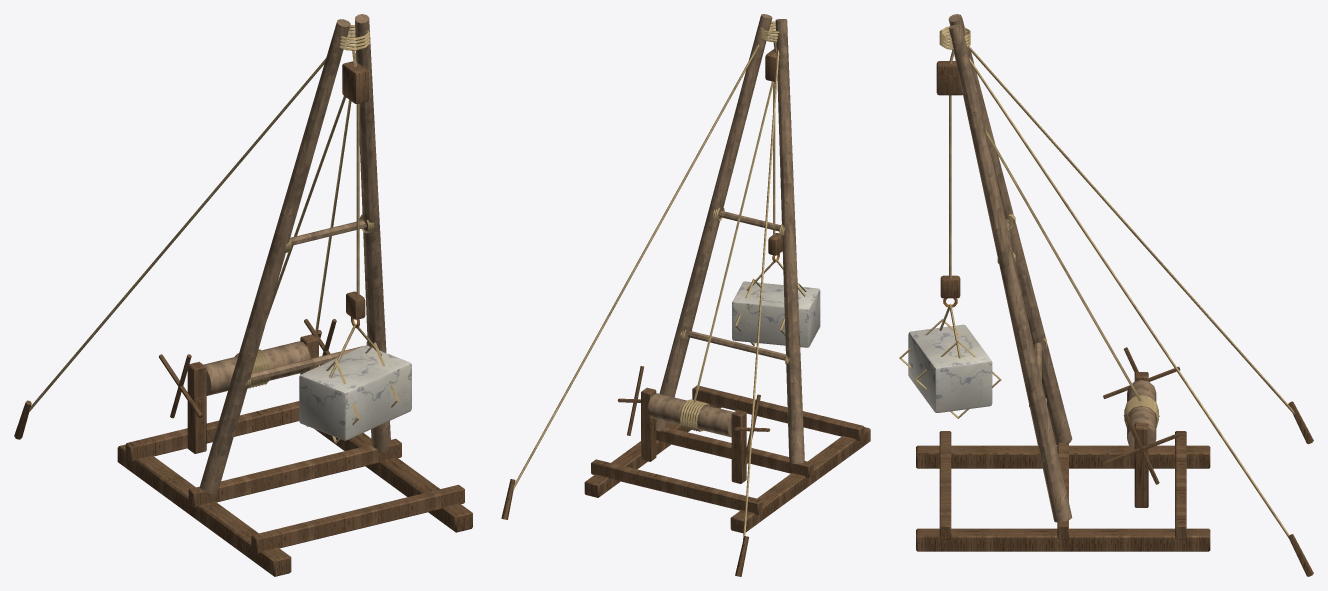
File: build_crane_t1.glb
The picture shows the model from 3 angles, left to right: view 1: azimuth 30°, elevation 25°; view 2: azimuth 150°, elevation 25°; view 3: azimuth 270°, elevation 25°; orthographic projection. The views are drawn at different scales.
Parts seen in each view (by area): view 1: wood_dark, wood, marble, rope; view 2: wood_dark, wood, rope, marble; view 3: wood_dark, wood, rope, marble.
Part boxes in pixels (box(x1,y1,x2,y2)): wood_dark: box(14, 61, 472, 576); wood: box(199, 14, 390, 493); marble: box(299, 345, 411, 440); rope: box(29, 25, 398, 443); wood_dark: box(501, 49, 870, 576); wood: box(647, 14, 804, 463); rope: box(513, 21, 806, 540); marble: box(732, 281, 820, 347); wood_dark: box(916, 61, 1313, 576); wood: box(948, 14, 1156, 522); rope: box(899, 26, 1295, 537); marble: box(908, 324, 992, 412).
Size of the model in its own units: 3.27 by 5.5 by 4.23.
5 materials, 5 textured.
